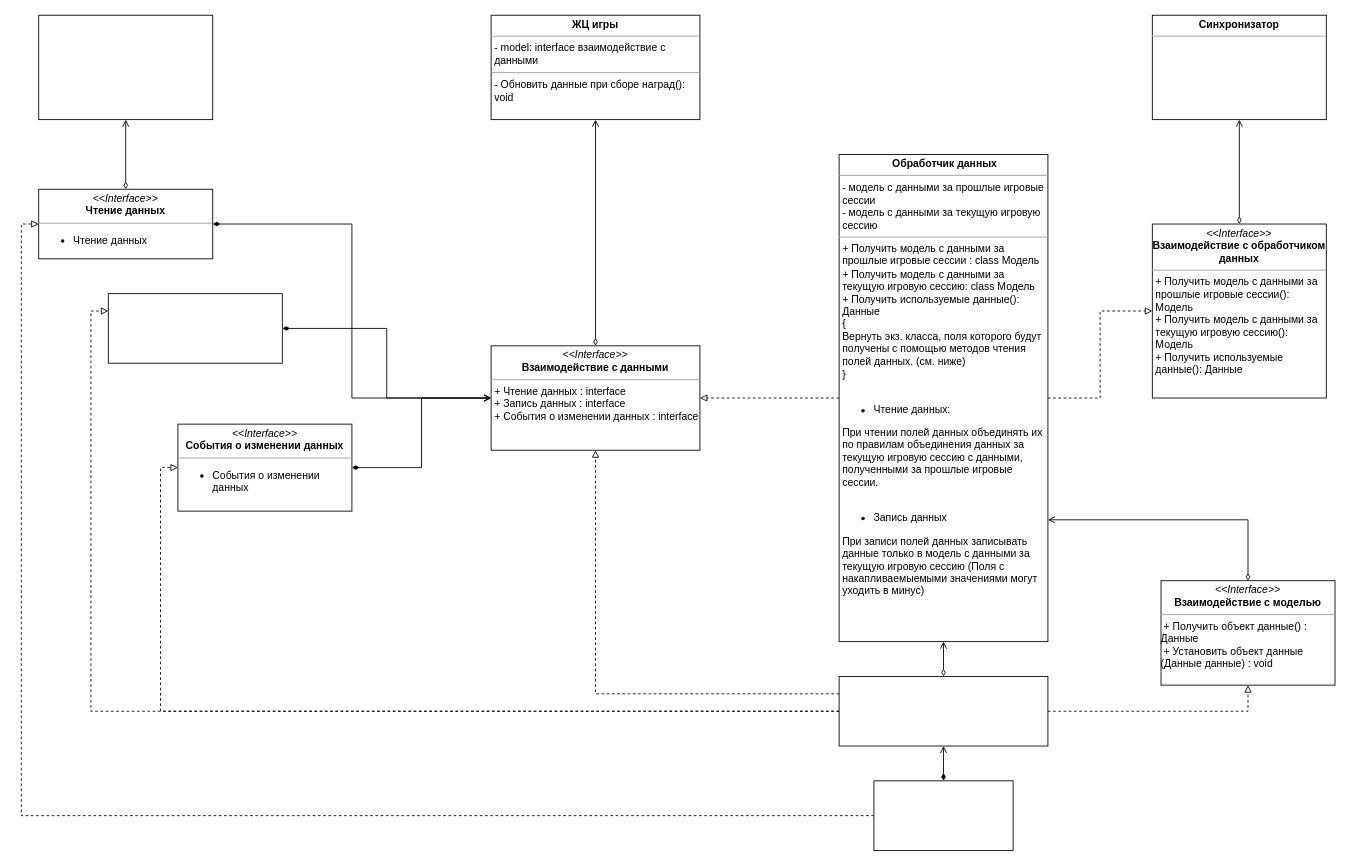
Some shapes in this 1350 by 866 pixel diagram are drawn without their labels. The centre of each missing label's shape, as x and y in pixels:
"<<Interface>> Запись данных Запись данных" belongs at (x=194, y=328).
"UI элементы - modelReader: interface Чтение данных - Отобразить данные(): void" belongs at (x=125, y=67).
"Данные Класс с полями данных" belongs at (x=943, y=815).
"Модель - данные : class Данные" belongs at (x=943, y=711).
